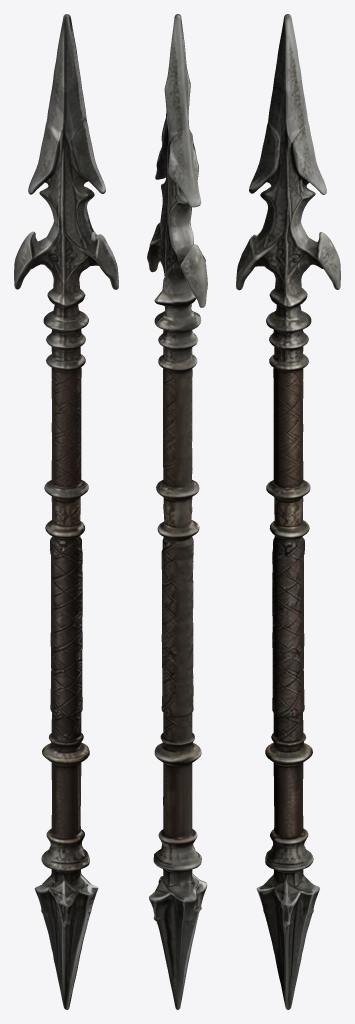
File: winged_spear.glb
3 views of the same model, side by side, from view 1: azimuth 90°, elevation 25°; view 2: azimuth 210°, elevation 25°; view 3: azimuth 270°, elevation 25° (orthographic).
Parts seen in each view (by area): view 1: winged_spear; view 2: winged_spear; view 3: winged_spear.
Boxes of the visible parts, x1,y1,x2,y2 form: winged_spear: (14, 14, 118, 1009); winged_spear: (147, 14, 207, 1009); winged_spear: (236, 14, 340, 1009).
Size of the model in its own units: 0.1393 by 2.29 by 0.2188.
Materials: 1 (1 with a texture image).
